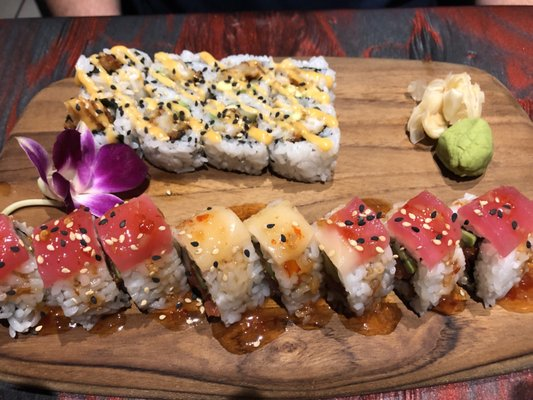curry: (7, 31, 533, 398)
sandwich: (62, 47, 341, 184)
